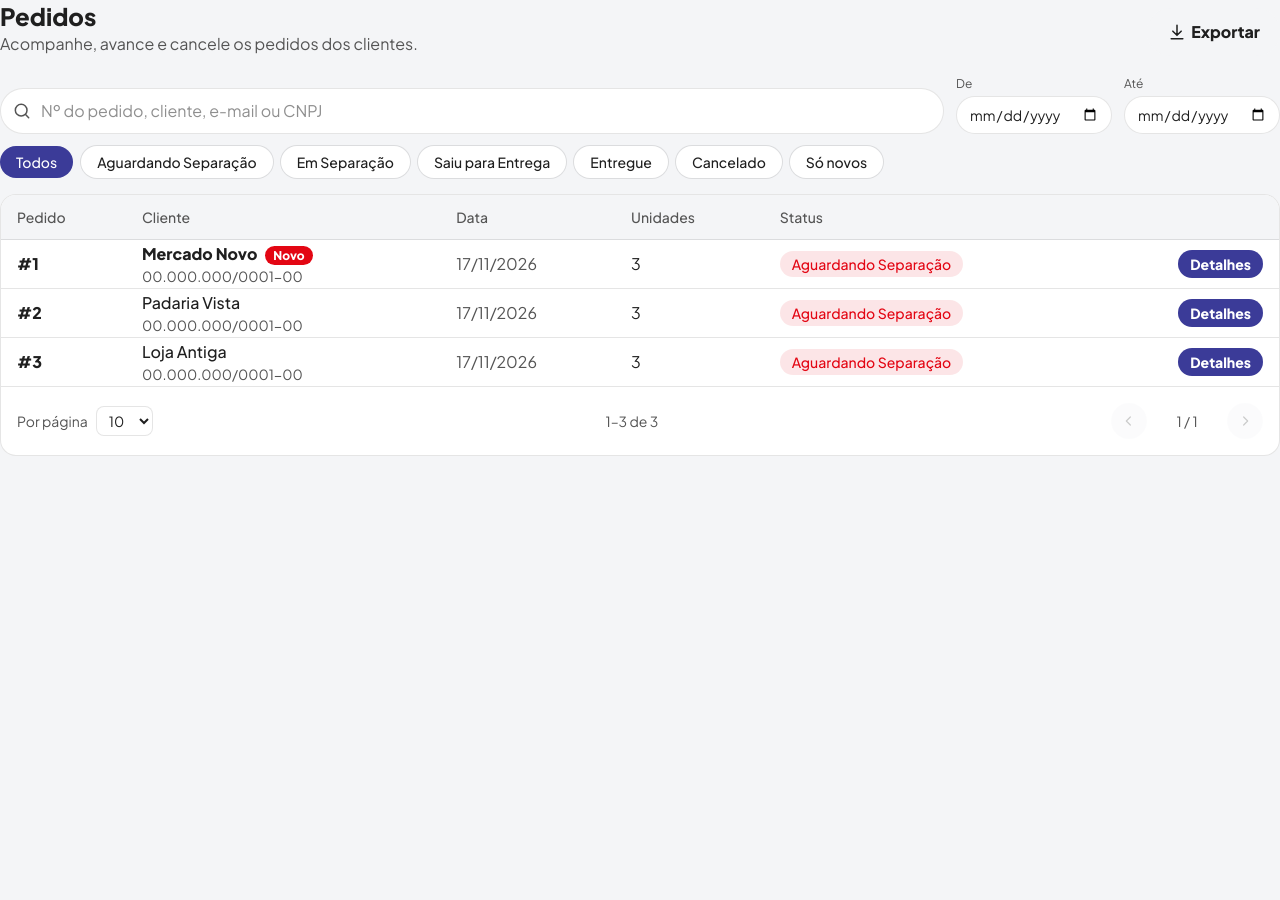
it: Pedidos: etiqueta "Novo" › abrir o detalhe com sucesso atualiza o selo (refreshCounters) e recarrega a lista
The image size is (1280, 900).
Click the button "Detalhes" in the row of "Mercado Novo" at (1221, 264), box [1178, 250, 1263, 278]
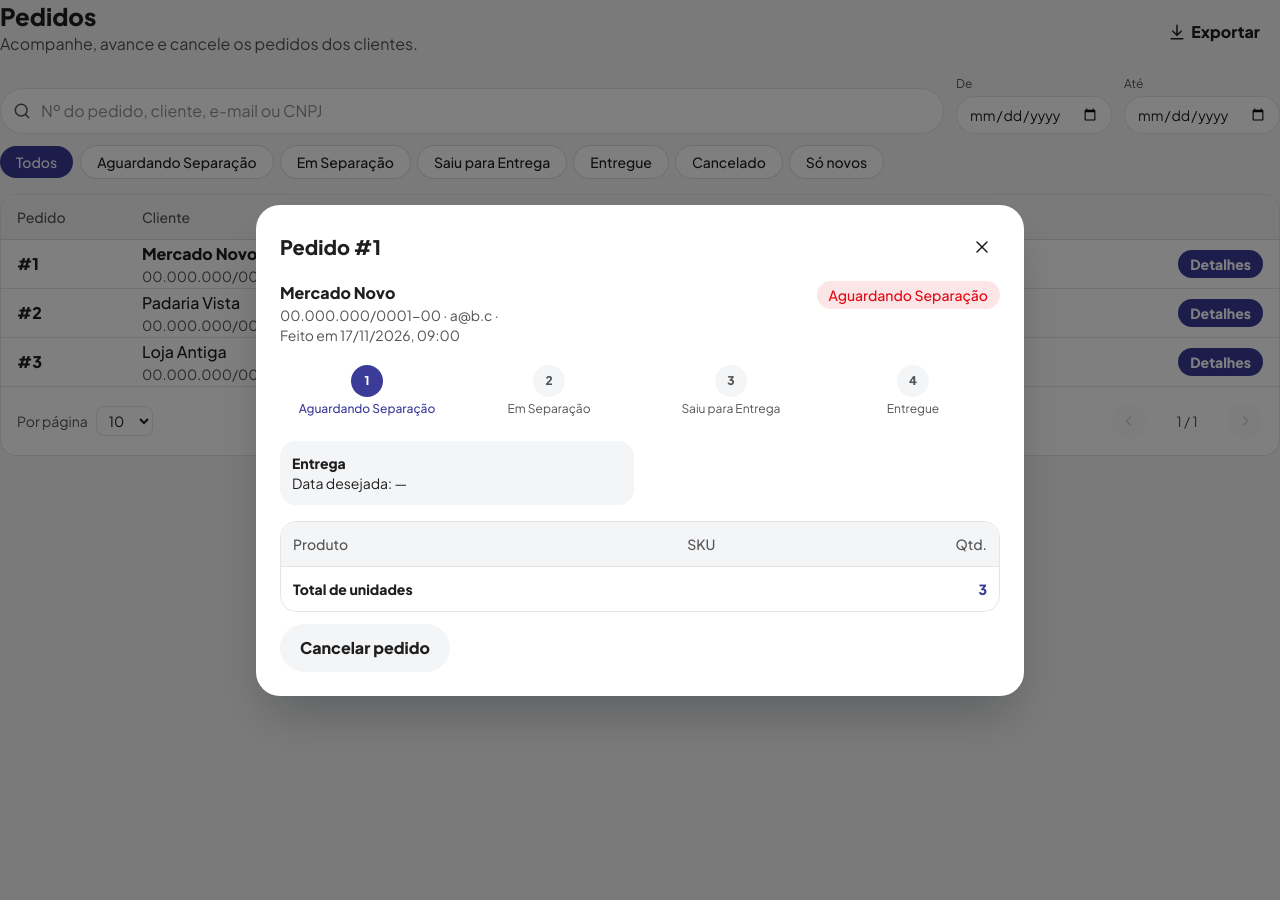
Check: the dialog "Pedido #1" is shown, box [256, 204, 1024, 696]
